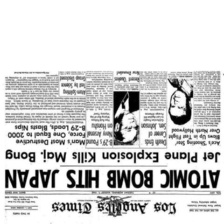news_paper: (0, 70, 224, 224)
